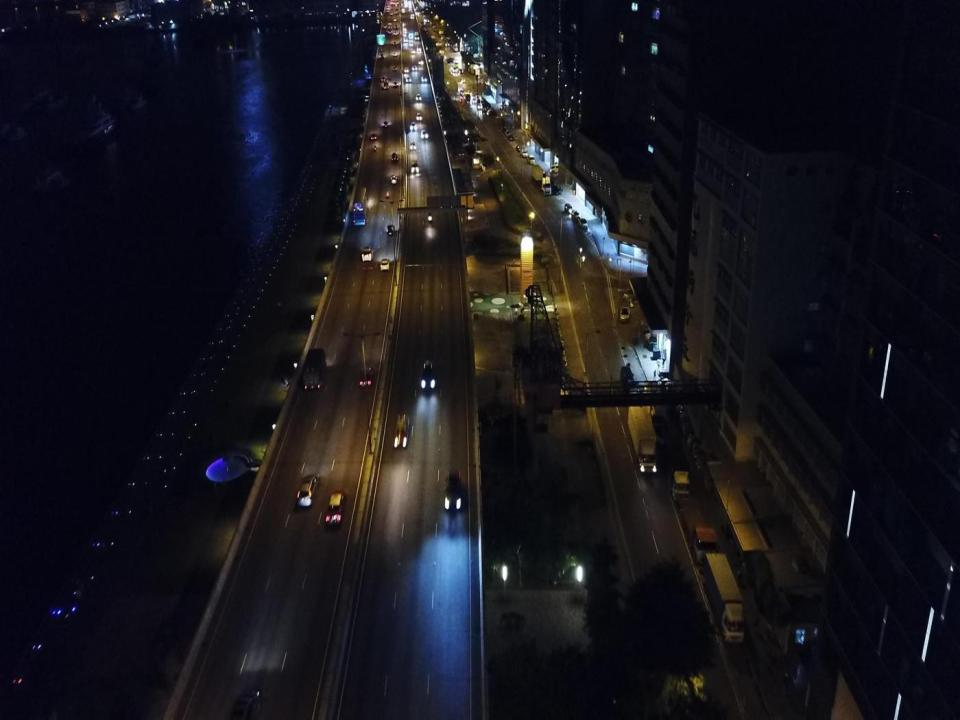bus: (352, 186, 369, 226), (383, 80, 389, 90), (388, 22, 392, 34), (409, 31, 414, 38)
car: (234, 689, 260, 719), (326, 489, 346, 527), (296, 474, 319, 507), (445, 468, 462, 512), (394, 415, 409, 448), (421, 360, 435, 392), (359, 366, 373, 388), (620, 306, 630, 323), (379, 257, 391, 270), (578, 218, 588, 228), (571, 210, 580, 220), (387, 225, 395, 236), (564, 204, 572, 213), (553, 184, 559, 194), (421, 130, 427, 139), (391, 176, 397, 184), (410, 142, 416, 150), (392, 152, 398, 160), (516, 145, 522, 153), (416, 112, 421, 121), (392, 81, 398, 88), (411, 122, 416, 130), (416, 93, 421, 101), (508, 133, 513, 141), (421, 76, 427, 82), (406, 76, 411, 83), (522, 150, 527, 157), (371, 133, 376, 139), (504, 130, 509, 136), (383, 122, 388, 127), (412, 65, 417, 70), (460, 78, 465, 83), (502, 127, 507, 132), (380, 77, 386, 81), (393, 51, 397, 57), (393, 66, 397, 71), (417, 45, 421, 50), (404, 37, 408, 42), (380, 54, 384, 59), (408, 42, 412, 46), (393, 41, 397, 45), (394, 31, 398, 35), (394, 25, 398, 29), (472, 99, 476, 103), (419, 59, 422, 63), (412, 48, 414, 54), (402, 33, 406, 36), (402, 27, 406, 30), (405, 67, 407, 72), (402, 22, 405, 25), (394, 11, 397, 14), (383, 25, 387, 27), (394, 18, 396, 21), (411, 17, 414, 19), (411, 12, 413, 15), (390, 12, 393, 14), (396, 7, 398, 10), (387, 7, 389, 10), (387, 10, 389, 13)
truck: (703, 554, 745, 643), (679, 497, 718, 564), (627, 405, 656, 474), (663, 440, 689, 500), (301, 348, 326, 388), (531, 164, 551, 195), (621, 367, 635, 388), (464, 92, 470, 102), (457, 82, 462, 92), (414, 32, 418, 39)
van: (361, 245, 374, 261), (550, 164, 565, 172), (526, 154, 534, 164), (412, 160, 418, 173), (451, 64, 457, 72), (460, 90, 464, 95), (459, 98, 463, 102)
